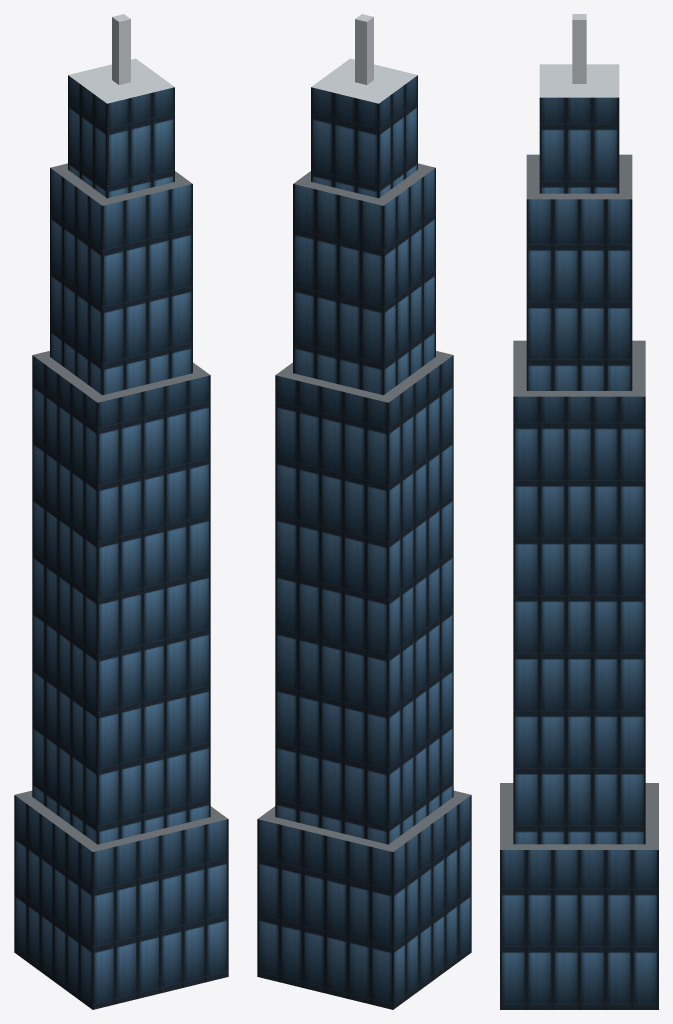
The model's file is skyscraper.glb.
The picture shows the model from 3 angles, left to right: view 1: azimuth 30°, elevation 25°; view 2: azimuth 150°, elevation 25°; view 3: azimuth 270°, elevation 25°; orthographic projection.
Parts seen in each view (by area): view 1: skyscraper; view 2: skyscraper; view 3: skyscraper.
Part boxes in pixels (box(x1,y1,x2,y2)): skyscraper: box(14, 14, 228, 1009); skyscraper: box(257, 14, 471, 1009); skyscraper: box(500, 14, 658, 1009).
Size of the model in its own units: 9 by 60 by 9.
Materials: 3 (1 with a texture image).
